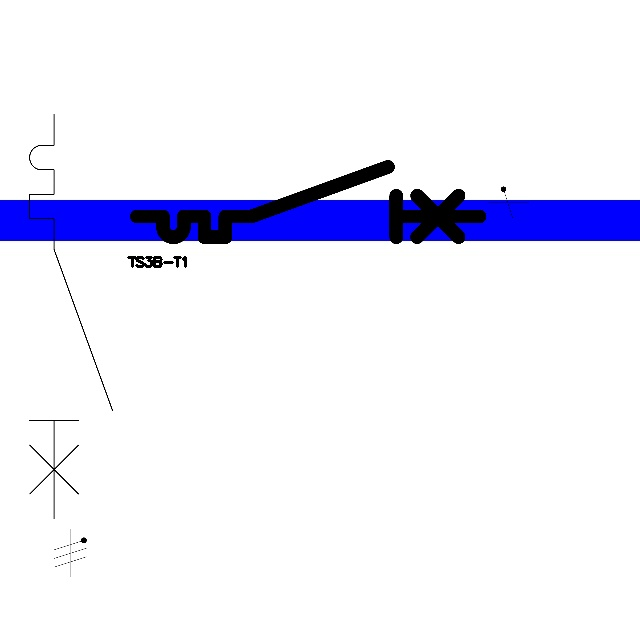interruptor_termomagnetico: (19, 104, 123, 529), (128, 158, 488, 246)
